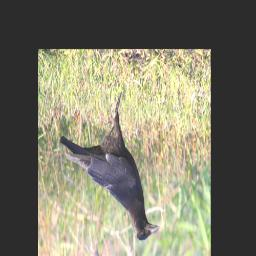Crow: (58, 87, 160, 243)
